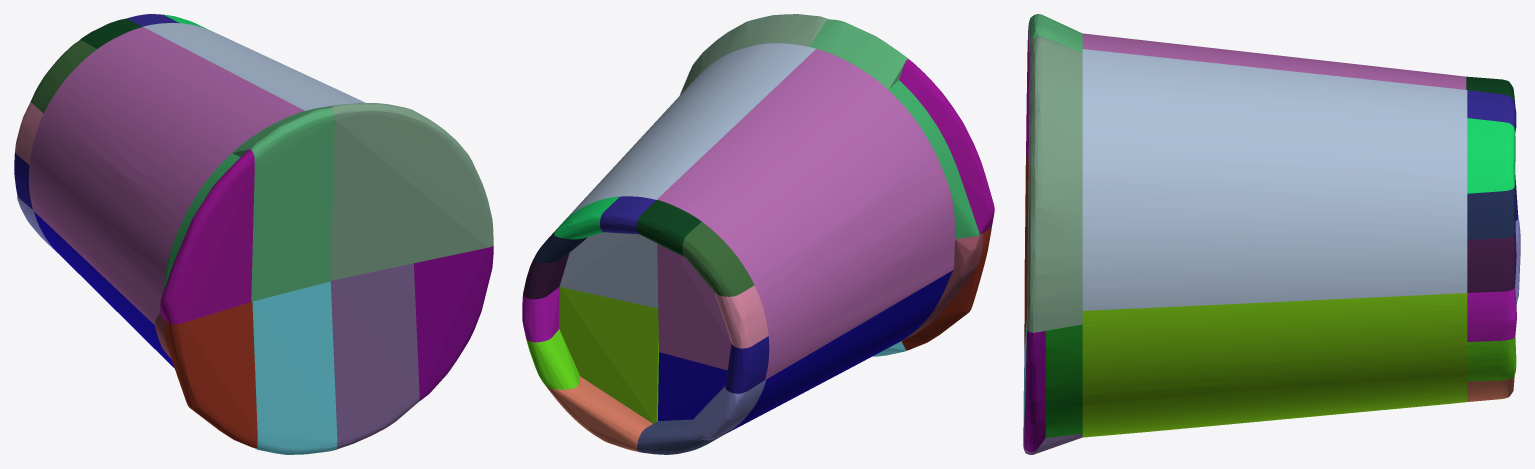
File: coacd_collision.obj
The picture shows the model from 3 angles, left to right: view 1: azimuth 30°, elevation 25°; view 2: azimuth 150°, elevation 25°; view 3: azimuth 270°, elevation 25°; orthographic projection. The views are drawn at different scales.
Visible parts, largest first — view 1: geometry_7, geometry_0, geometry_3, geometry_1, geometry_2, geometry_14, geometry_15, geometry_11, geometry_6, geometry_5, geometry_19, geometry_10 (+3 smaller); view 2: geometry_7, geometry_6, geometry_5, geometry_4, geometry_14, geometry_9, geometry_0, geometry_3, geometry_19, geometry_10, geometry_12, geometry_24 (+11 smaller); view 3: geometry_6, geometry_4, geometry_0, geometry_7, geometry_8, geometry_23, geometry_26, geometry_22, geometry_11, geometry_21, geometry_17, geometry_18 (+5 smaller).
Part boxes in pixels (left/top/right/bottom): geometry_7: left=29, top=27, right=304, bottom=324; geometry_0: left=314, top=103, right=493, bottom=280; geometry_3: left=232, top=107, right=334, bottom=301; geometry_1: left=330, top=263, right=419, bottom=449; geometry_2: left=252, top=281, right=337, bottom=454; geometry_14: left=160, top=149, right=254, bottom=324; geometry_15: left=163, top=302, right=257, bottom=448; geometry_11: left=414, top=245, right=493, bottom=401; geometry_6: left=143, top=23, right=365, bottom=110; geometry_5: left=34, top=211, right=174, bottom=367; geometry_19: left=31, top=40, right=96, bottom=113; geometry_10: left=159, top=153, right=240, bottom=314; geometry_7: left=657, top=49, right=955, bottom=379; geometry_6: left=559, top=43, right=815, bottom=308; geometry_5: left=658, top=270, right=952, bottom=432; geometry_4: left=559, top=287, right=658, bottom=423; geometry_14: left=899, top=59, right=994, bottom=234; geometry_9: left=546, top=376, right=652, bottom=451; geometry_0: left=680, top=14, right=828, bottom=94; geometry_3: left=809, top=19, right=908, bottom=89; geometry_19: left=682, top=222, right=754, bottom=296; geometry_10: left=889, top=80, right=979, bottom=238; geometry_12: left=684, top=380, right=765, bottom=440; geometry_24: left=715, top=285, right=768, bottom=348; geometry_6: left=1082, top=49, right=1467, bottom=310; geometry_4: left=1082, top=293, right=1467, bottom=437; geometry_0: left=1027, top=36, right=1082, bottom=332; geometry_7: left=1082, top=33, right=1466, bottom=89; geometry_8: left=1045, top=324, right=1082, bottom=437; geometry_23: left=1467, top=118, right=1515, bottom=193; geometry_26: left=1467, top=234, right=1516, bottom=292; geometry_22: left=1467, top=287, right=1516, bottom=341; geometry_11: left=1024, top=330, right=1045, bottom=451; geometry_21: left=1467, top=185, right=1515, bottom=239; geometry_17: left=1467, top=337, right=1516, bottom=381; geometry_18: left=1467, top=90, right=1516, bottom=132.
Size of the model in its own units: 99.97 by 98.86 by 111.
